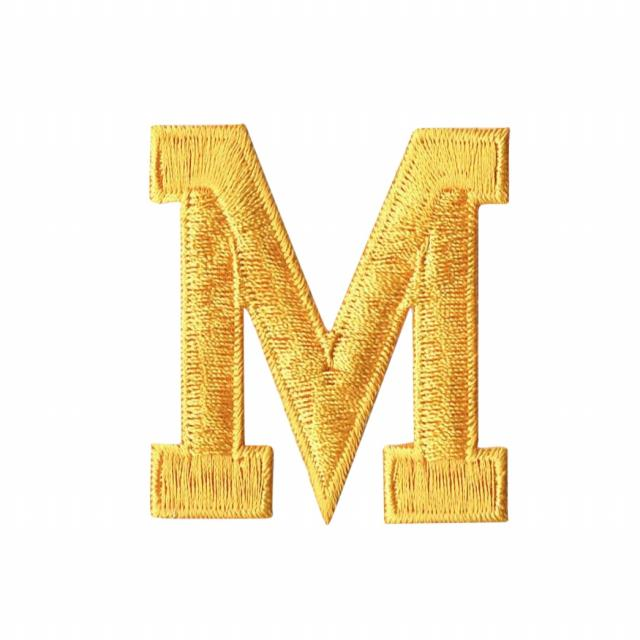M: (109, 51, 537, 580)
